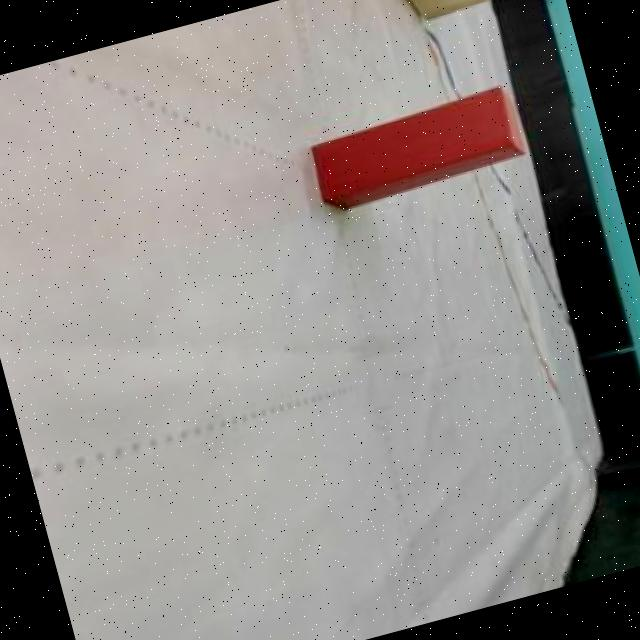redbox: (302, 83, 532, 218)
